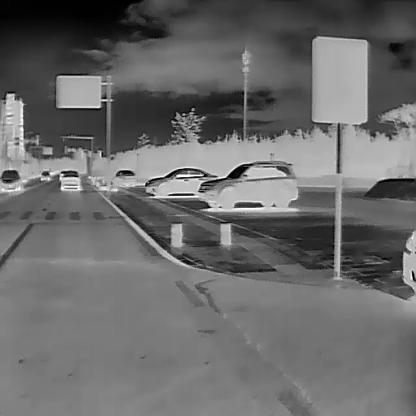car: (196, 159, 298, 210), (144, 166, 216, 196), (111, 168, 135, 188), (1, 167, 20, 191), (59, 171, 81, 190), (40, 170, 50, 180)
